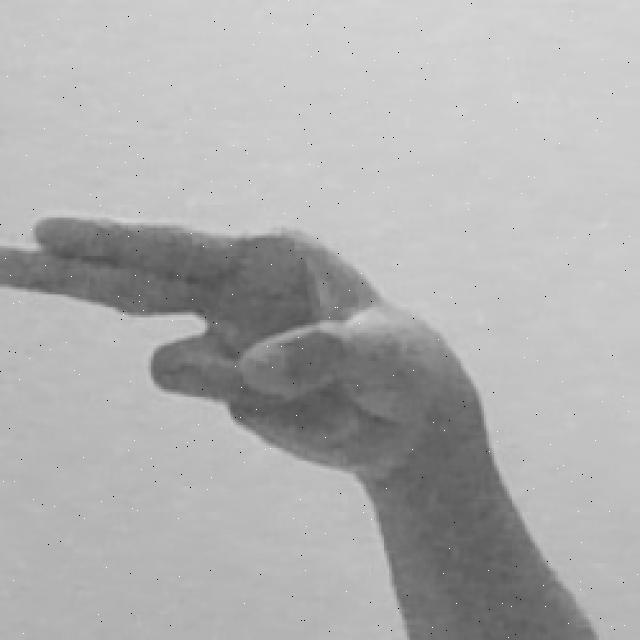H: (0, 199, 609, 637)
